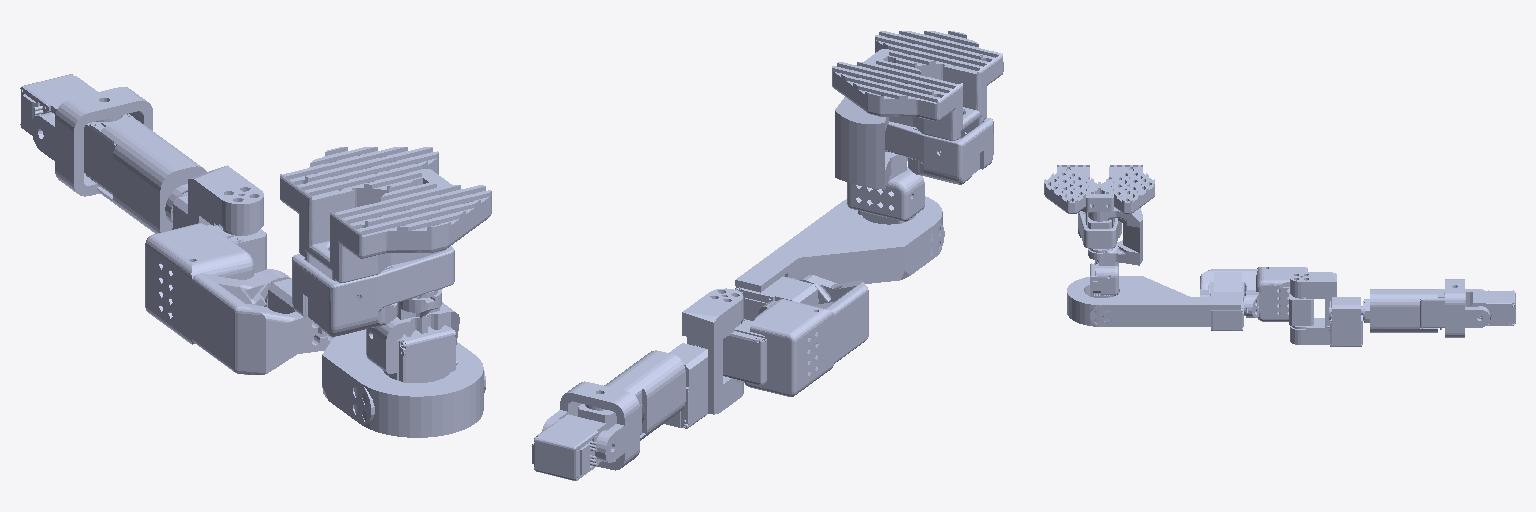
The robot description file, URDF, robot "SO_7DOF_ARM100_08h_HL_01d_URDF_01.SLDASM":
<?xml version="1.0" encoding="utf-8"?>
<!-- This URDF was automatically created by SolidWorks to URDF Exporter! Originally created by [author] ([email redacted]) 
     Commit Version: 1.6.0-1-g15f4949  Build Version: 1.6.7594.29634
     For more information, please see http://wiki.ros.org/sw_urdf_exporter -->
<robot
  name="SO_7DOF_ARM100_08h_HL_01d_URDF_01.SLDASM">
  <link
    name="Base">
    <inertial>
      <origin
        xyz="0.0195624606184725 -0.0295895597276446 -2.76876897655451E-06"
        rpy="0 0 0" />
      <mass
        value="0.184098970814929" />
      <inertia
        ixx="0.000142288448859702"
        ixy="-2.26169251313517E-05"
        ixz="4.23610978246252E-09"
        iyy="0.00016758363588302"
        iyz="-2.10119213746261E-08"
        izz="0.000135962602722997" />
    </inertial>
    <visual>
      <origin
        xyz="0 0 0"
        rpy="0 0 0" />
      <geometry>
        <mesh
          filename="package://SO_7DOF_ARM100_08h_HL_01d_URDF_01.SLDASM/meshes/Base.STL" />
      </geometry>
      <material
        name="">
        <color
          rgba="0.792156862745098 0.819607843137255 0.933333333333333 1" />
      </material>
    </visual>
    <collision>
      <origin
        xyz="0 0 0"
        rpy="0 0 0" />
      <geometry>
        <mesh
          filename="package://SO_7DOF_ARM100_08h_HL_01d_URDF_01.SLDASM/meshes/Base.STL" />
      </geometry>
    </collision>
  </link>
  <link
    name="Shoulder_Pitch_Yaw">
    <inertial>
      <origin
        xyz="-0.013299 0.079753 0.035058"
        rpy="0 0 0" />
      <mass
        value="0.092914" />
      <inertia
        ixx="5.0472E-05"
        ixy="-6.879E-06"
        ixz="3.3863E-07"
        iyy="2.252E-05"
        iyz="5.9775E-07"
        izz="5.4357E-05" />
    </inertial>
    <visual>
      <origin
        xyz="0 0 0"
        rpy="0 0 0" />
      <geometry>
        <mesh
          filename="package://SO_7DOF_ARM100_08h_HL_01d_URDF_01.SLDASM/meshes/Shoulder_Pitch_Yaw.STL" />
      </geometry>
      <material
        name="">
        <color
          rgba="0.79216 0.81961 0.93333 1" />
      </material>
    </visual>
    <collision>
      <origin
        xyz="0 0 0"
        rpy="0 0 0" />
      <geometry>
        <mesh
          filename="package://SO_7DOF_ARM100_08h_HL_01d_URDF_01.SLDASM/meshes/Shoulder_Pitch_Yaw.STL" />
      </geometry>
    </collision>
  </link>
  <joint
    name="Shoulder_Pitch"
    type="continuous">
    <origin
      xyz="0.01 0 0"
      rpy="-1.5708 0 -1.5723" />
    <parent
      link="Base" />
    <child
      link="Shoulder_Pitch_Yaw" />
    <axis
      xyz="0 1 0" />
    <limit
      lower="-1"
      upper="3"
      effort="0"
      velocity="0" />
  </joint>
  <link
    name="Upper_Humeral">
    <inertial>
      <origin
        xyz="-0.045255 0.0065486 0.04097"
        rpy="0 0 0" />
      <mass
        value="0.21817" />
      <inertia
        ixx="9.4379E-05"
        ixy="1.3581E-05"
        ixz="2.8938E-05"
        iyy="0.00021514"
        iyz="-3.2154E-06"
        izz="0.00014492" />
    </inertial>
    <visual>
      <origin
        xyz="0 0 0"
        rpy="0 0 0" />
      <geometry>
        <mesh
          filename="package://SO_7DOF_ARM100_08h_HL_01d_URDF_01.SLDASM/meshes/Upper_Humeral.STL" />
      </geometry>
      <material
        name="">
        <color
          rgba="0.79216 0.81961 0.93333 1" />
      </material>
    </visual>
    <collision>
      <origin
        xyz="0 0 0"
        rpy="0 0 0" />
      <geometry>
        <mesh
          filename="package://SO_7DOF_ARM100_08h_HL_01d_URDF_01.SLDASM/meshes/Upper_Humeral.STL" />
      </geometry>
    </collision>
  </link>
  <joint
    name="Shoulder_Yaw"
    type="continuous">
    <origin
      xyz="-0.002 0.123 0"
      rpy="-0.00019451 1.2429E-05 0.12763" />
    <parent
      link="Shoulder_Pitch_Yaw" />
    <child
      link="Upper_Humeral" />
    <axis
      xyz="0.0015282 0 -1" />
    <limit
      lower="-1"
      upper="0"
      effort="0"
      velocity="0" />
  </joint>
  <link
    name="Humeral_Elbow">
    <inertial>
      <origin
        xyz="-0.072262 0.021725 -0.0207"
        rpy="0 0 0" />
      <mass
        value="0.16611" />
      <inertia
        ixx="5.0858E-05"
        ixy="1.3362E-05"
        ixz="-2.4207E-06"
        iyy="0.00013739"
        iyz="2.7097E-06"
        izz="0.00013639" />
    </inertial>
    <visual>
      <origin
        xyz="0 0 0"
        rpy="0 0 0" />
      <geometry>
        <mesh
          filename="package://SO_7DOF_ARM100_08h_HL_01d_URDF_01.SLDASM/meshes/Humeral_Elbow.STL" />
      </geometry>
      <material
        name="">
        <color
          rgba="0.79216 0.81961 0.93333 1" />
      </material>
    </visual>
    <collision>
      <origin
        xyz="0 0 0"
        rpy="0 0 0" />
      <geometry>
        <mesh
          filename="package://SO_7DOF_ARM100_08h_HL_01d_URDF_01.SLDASM/meshes/Humeral_Elbow.STL" />
      </geometry>
    </collision>
  </link>
  <joint
    name="Humeral_Rotation"
    type="continuous">
    <origin
      xyz="-0.090614 0.016864 0.034762"
      rpy="-0.53649 0.06528 -0.018789" />
    <parent
      link="Upper_Humeral" />
    <child
      link="Humeral_Elbow" />
    <axis
      xyz="0.99187 -0.12728 0.0015157" />
    <limit
      lower="-1.8"
      upper="1.8"
      effort="0"
      velocity="0" />
  </joint>
  <link
    name="Forearm">
    <inertial>
      <origin
        xyz="-0.02921 0.0068798 0.0036776"
        rpy="0 0 0" />
      <mass
        value="0.074077" />
      <inertia
        ixx="3.2764E-05"
        ixy="-2.3726E-06"
        ixz="-2.325E-06"
        iyy="1.9912E-05"
        iyz="-1.1135E-05"
        izz="3.1909E-05" />
    </inertial>
    <visual>
      <origin
        xyz="0 0 0"
        rpy="0 0 0" />
      <geometry>
        <mesh
          filename="package://SO_7DOF_ARM100_08h_HL_01d_URDF_01.SLDASM/meshes/Forearm.STL" />
      </geometry>
      <material
        name="">
        <color
          rgba="0.79216 0.81961 0.93333 1" />
      </material>
    </visual>
    <collision>
      <origin
        xyz="0 0 0"
        rpy="0 0 0" />
      <geometry>
        <mesh
          filename="package://SO_7DOF_ARM100_08h_HL_01d_URDF_01.SLDASM/meshes/Forearm.STL" />
      </geometry>
    </collision>
  </link>
  <joint
    name="Elbow"
    type="continuous">
    <origin
      xyz="-0.10713 0.0094948 0.0068692"
      rpy="0.0028871 0.021537 0.013065" />
    <parent
      link="Humeral_Elbow" />
    <child
      link="Forearm" />
    <axis
      xyz="0.10838 0.8507 0.51436" />
    <limit
      lower="-3"
      upper="0"
      effort="0"
      velocity="0" />
  </joint>
  <link
    name="Wrist_Roll_Yaw">
    <inertial>
      <origin
        xyz="-0.053889 0.0079735 -0.00086939"
        rpy="0 0 0" />
      <mass
        value="0.091826" />
      <inertia
        ixx="1.7943E-05"
        ixy="1.5108E-06"
        ixz="-1.3157E-06"
        iyy="3.104E-05"
        iyz="-2.7449E-06"
        izz="2.922E-05" />
    </inertial>
    <visual>
      <origin
        xyz="0 0 0"
        rpy="0 0 0" />
      <geometry>
        <mesh
          filename="package://SO_7DOF_ARM100_08h_HL_01d_URDF_01.SLDASM/meshes/Wrist_Roll_Yaw.STL" />
      </geometry>
      <material
        name="">
        <color
          rgba="0.79216 0.81961 0.93333 1" />
      </material>
    </visual>
    <collision>
      <origin
        xyz="0 0 0"
        rpy="0 0 0" />
      <geometry>
        <mesh
          filename="package://SO_7DOF_ARM100_08h_HL_01d_URDF_01.SLDASM/meshes/Wrist_Roll_Yaw.STL" />
      </geometry>
    </collision>
  </link>
  <joint
    name="Wrist_Roll"
    type="continuous">
    <origin
      xyz="-0.058273 0.0045968 0.0025376"
      rpy="2.7435 -0.099808 -0.26118" />
    <parent
      link="Forearm" />
    <child
      link="Wrist_Roll_Yaw" />
    <axis
      xyz="0.98986 -0.14016 0.023243" />
    <limit
      lower="-1.8"
      upper="1.8"
      effort="0"
      velocity="0" />
  </joint>
  <link
    name="Wrist_Yaw_Pitch">
    <inertial>
      <origin
        xyz="2.7756E-17 0.0024 0.0045832"
        rpy="0 0 0" />
      <mass
        value="0.023922" />
      <inertia
        ixx="8.3081E-06"
        ixy="6.951E-21"
        ixz="-4.473E-21"
        iyy="1.0623E-05"
        iyz="-8.225E-21"
        izz="1.3498E-05" />
    </inertial>
    <visual>
      <origin
        xyz="0 0 0"
        rpy="0 0 0" />
      <geometry>
        <mesh
          filename="package://SO_7DOF_ARM100_08h_HL_01d_URDF_01.SLDASM/meshes/Wrist_Yaw_Pitch.STL" />
      </geometry>
      <material
        name="">
        <color
          rgba="0.79216 0.81961 0.93333 1" />
      </material>
    </visual>
    <collision>
      <origin
        xyz="0 0 0"
        rpy="0 0 0" />
      <geometry>
        <mesh
          filename="package://SO_7DOF_ARM100_08h_HL_01d_URDF_01.SLDASM/meshes/Wrist_Yaw_Pitch.STL" />
      </geometry>
    </collision>
  </link>
  <joint
    name="Wrist_Yaw"
    type="continuous">
    <origin
      xyz="-0.094575 0.013474 -0.0022794"
      rpy="1.5994 -0.62299 -1.7282" />
    <parent
      link="Wrist_Roll_Yaw" />
    <child
      link="Wrist_Yaw_Pitch" />
    <axis
      xyz="0 1 0" />
    <limit
      lower="-0.9"
      upper="0.5"
      effort="0"
      velocity="0" />
  </joint>
  <link
    name="End_Servo">
    <inertial>
      <origin
        xyz="-0.012801 -1.9931E-09 0.00037293"
        rpy="0 0 0" />
      <mass
        value="0.036217" />
      <inertia
        ixx="5.0606E-06"
        ixy="-1.1965E-12"
        ixz="7.0946E-08"
        iyy="9.3616E-06"
        iyz="1.0572E-12"
        izz="7.8391E-06" />
    </inertial>
    <visual>
      <origin
        xyz="0 0 0"
        rpy="0 0 0" />
      <geometry>
        <mesh
          filename="package://SO_7DOF_ARM100_08h_HL_01d_URDF_01.SLDASM/meshes/End_Servo.STL" />
      </geometry>
      <material
        name="">
        <color
          rgba="0.79216 0.81961 0.93333 1" />
      </material>
    </visual>
    <collision>
      <origin
        xyz="0 0 0"
        rpy="0 0 0" />
      <geometry>
        <mesh
          filename="package://SO_7DOF_ARM100_08h_HL_01d_URDF_01.SLDASM/meshes/End_Servo.STL" />
      </geometry>
    </collision>
  </link>
  <joint
    name="Wrist_Pitch"
    type="continuous">
    <origin
      xyz="0 0.0024 0.025"
      rpy="0 1.5708 0" />
    <parent
      link="Wrist_Yaw_Pitch" />
    <child
      link="End_Servo" />
    <axis
      xyz="0 0 1" />
    <limit
      lower="-1.8"
      upper="1.8"
      effort="0"
      velocity="0" />
  </joint>
</robot>

--- Facts derived from the render (not from the file) ---
Views: 3 orthographic renders of the robot side by side, from view 1: azimuth 30°, elevation 25°; view 2: azimuth 150°, elevation 25°; view 3: azimuth 270°, elevation 25°.
Model SO_7DOF_ARM100_08h_HL_01d_URDF_01.SLDASM with 8 links and 7 joints (7 continuous), rooted at Base, posed every joint at zero.
Links seen in each view (by area): view 1: Base, Humeral_Elbow, Upper_Humeral, Wrist_Roll_Yaw, Shoulder_Pitch_Yaw, Wrist_Yaw_Pitch, Forearm, End_Servo; view 2: Base, Upper_Humeral, Humeral_Elbow, Shoulder_Pitch_Yaw, Forearm, Wrist_Roll_Yaw, Wrist_Yaw_Pitch, End_Servo; view 3: Upper_Humeral, Base, Humeral_Elbow, Forearm, Wrist_Roll_Yaw, Shoulder_Pitch_Yaw, Wrist_Yaw_Pitch, End_Servo.
Boxes of the visible links, x1,y1,x2,y2 form: Base: [280, 147, 491, 336]; Humeral_Elbow: [145, 223, 333, 374]; Upper_Humeral: [265, 278, 485, 437]; Wrist_Roll_Yaw: [84, 114, 206, 233]; Shoulder_Pitch_Yaw: [366, 289, 459, 382]; Wrist_Yaw_Pitch: [31, 87, 152, 196]; Forearm: [172, 165, 263, 232]; End_Servo: [20, 74, 97, 134]; Base: [832, 31, 1003, 184]; Upper_Humeral: [735, 196, 944, 320]; Humeral_Elbow: [723, 275, 868, 396]; Shoulder_Pitch_Yaw: [835, 97, 924, 224]; Forearm: [664, 288, 743, 428]; Wrist_Roll_Yaw: [578, 350, 685, 440]; Wrist_Yaw_Pitch: [542, 381, 639, 470]; End_Servo: [532, 414, 608, 480]; Upper_Humeral: [1067, 276, 1246, 330]; Base: [1044, 165, 1154, 252]; Humeral_Elbow: [1200, 267, 1313, 328]; Forearm: [1290, 272, 1364, 346]; Wrist_Roll_Yaw: [1364, 289, 1465, 332]; Shoulder_Pitch_Yaw: [1088, 207, 1142, 297]; Wrist_Yaw_Pitch: [1445, 279, 1489, 337]; End_Servo: [1470, 290, 1515, 325].
Size in the robot's own frame: 0.1034 by 0.4709 by 0.1623 metres.
8 mesh visuals loaded from 8 distinct referenced files (8 binary STL).